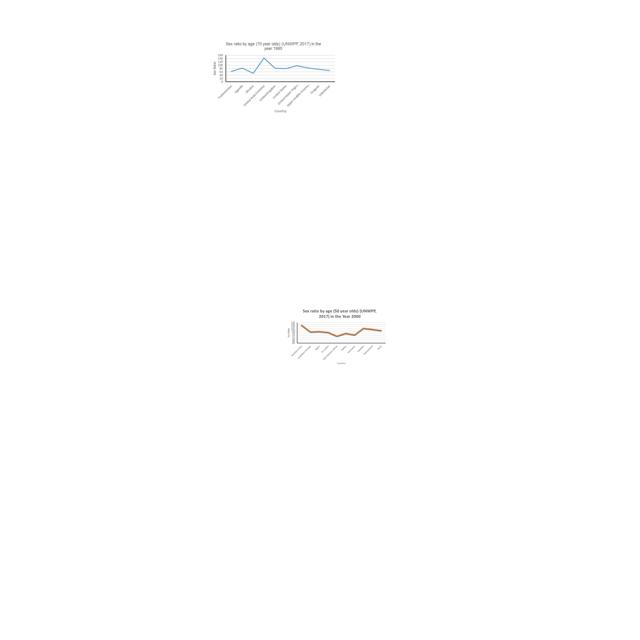Graph: (210, 40, 337, 114), (285, 307, 386, 365)
